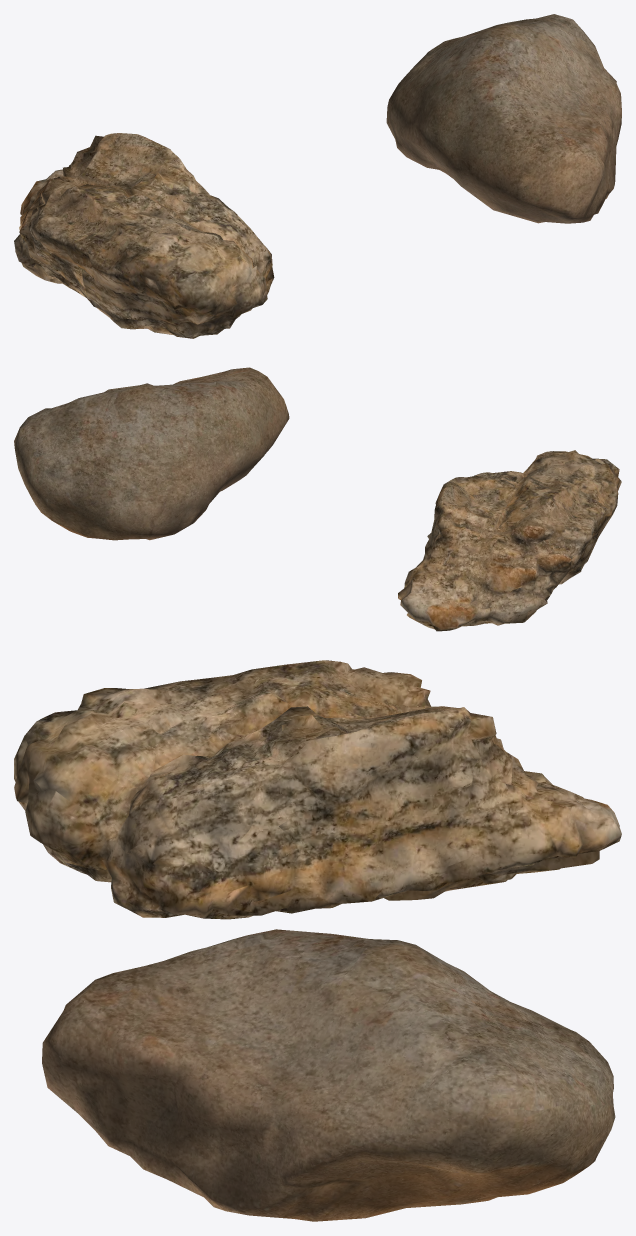
File: namaqualand_boulders_01.glb
The picture shows the model from 3 angles, top to bottom: view 1: azimuth 30°, elevation 25°; view 2: azimuth 150°, elevation 25°; view 3: azimuth 270°, elevation 25°; orthographic projection. The views are drawn at different scales.
Parts seen in each view (by area): view 1: namaqualand_rocks_01_a; view 2: namaqualand_rocks_01_a; view 3: namaqualand_rocks_01_a.
Part boxes in pixels (bbox=[...]): namaqualand_rocks_01_a: bbox=[14, 14, 621, 338]; namaqualand_rocks_01_a: bbox=[14, 367, 621, 631]; namaqualand_rocks_01_a: bbox=[14, 660, 621, 1221].
Bounding box in the file's own units: 1.06 × 0.2496 × 0.5838.
1 material, 1 textured.
